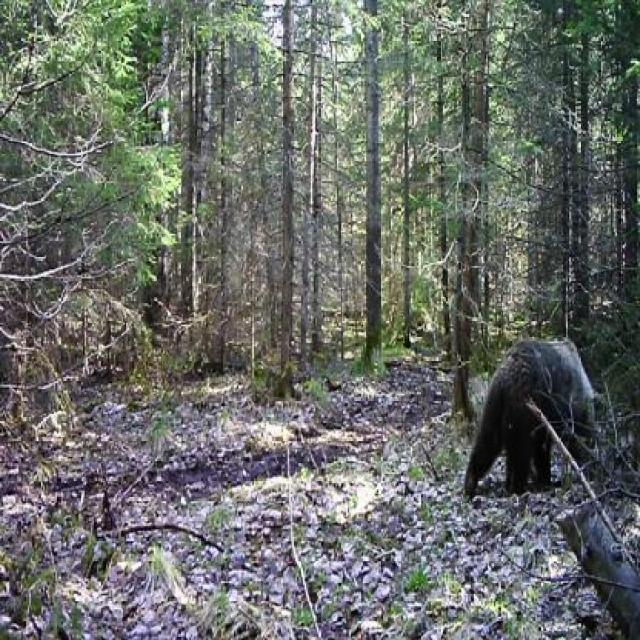Bear: (463, 286, 597, 479)
